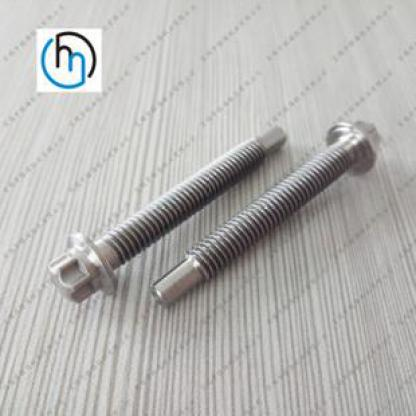FOD: (147, 116, 383, 309), (45, 122, 288, 306)
